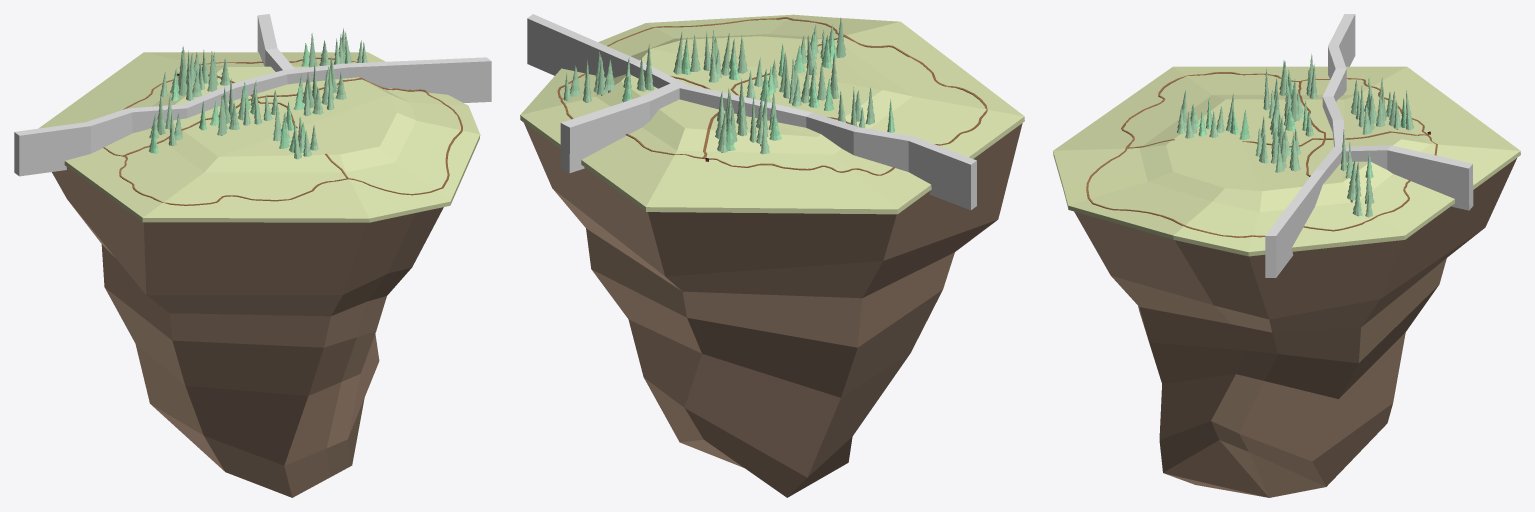
Rendered from DreamState_Island_ScaledDown (1).fbx.
3 views of the same model, side by side, from view 1: azimuth 30°, elevation 25°; view 2: azimuth 150°, elevation 25°; view 3: azimuth 270°, elevation 25° (orthographic). The views are drawn at different scales.
Visible parts, largest first — view 1: IslandRock, IslandGrass, RiverBank, Road; view 2: IslandRock, IslandGrass, RiverBank, Road; view 3: IslandRock, IslandGrass, RiverBank, Road.
Part boxes in pixels (x1,y1,x2,y2): IslandRock: [52, 167, 443, 497]; IslandGrass: [38, 52, 480, 222]; RiverBank: [14, 14, 491, 176]; Road: [103, 57, 462, 205]; IslandRock: [524, 123, 1022, 497]; IslandGrass: [520, 14, 1024, 214]; RiverBank: [527, 14, 976, 210]; Road: [557, 17, 987, 175]; IslandRock: [1074, 158, 1516, 497]; IslandGrass: [1053, 66, 1520, 256]; RiverBank: [1265, 14, 1473, 277]; Road: [1086, 72, 1437, 237].
Bounding box in the file's own units: 335153 × 293521 × 303120.
